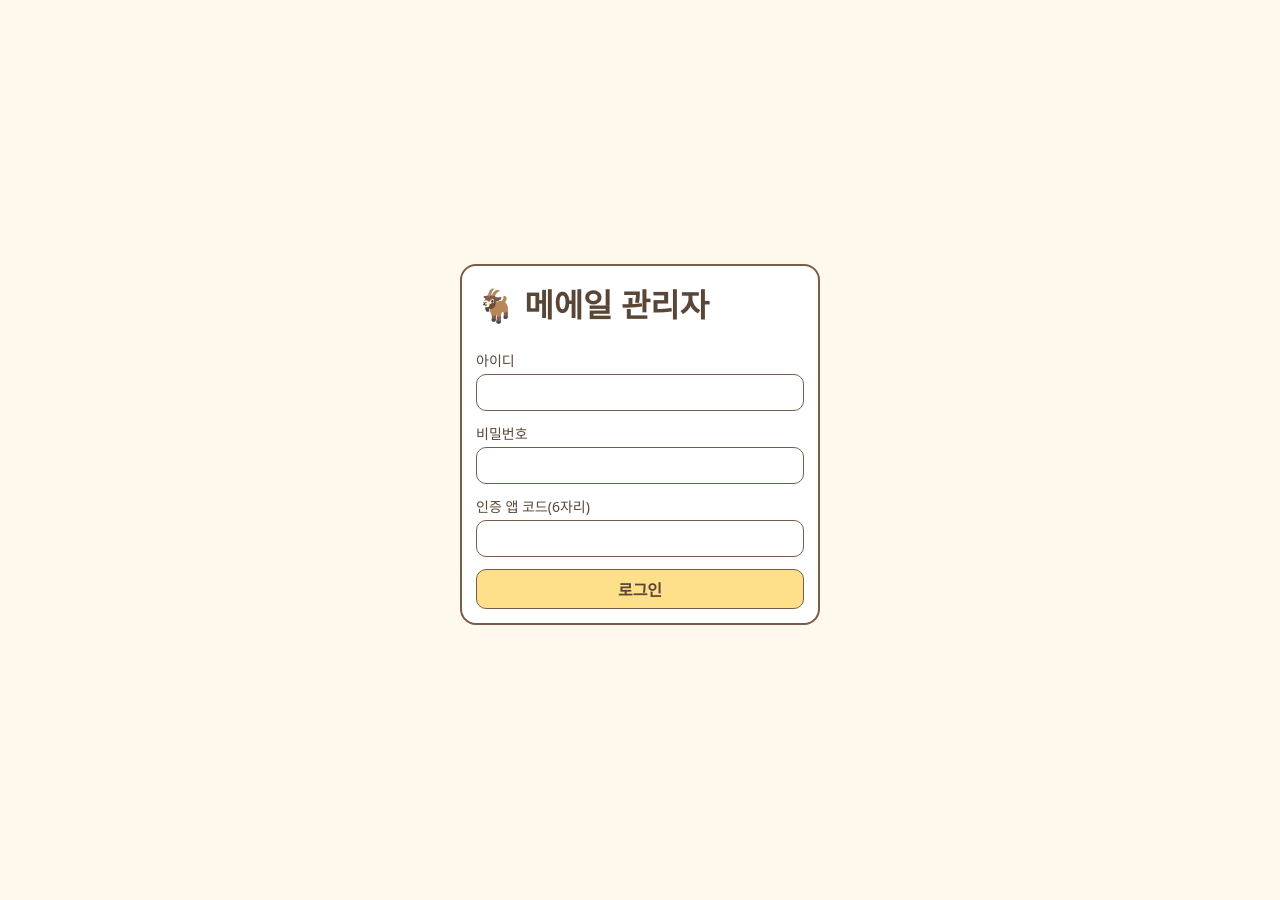
관리자 웹 › 로그인: 틀리면 안내, 맞으면 대시보드
The image size is (1280, 900).
Type "boss" into the field labelled "아이디". click: (640, 392)
box: [476, 374, 804, 410]
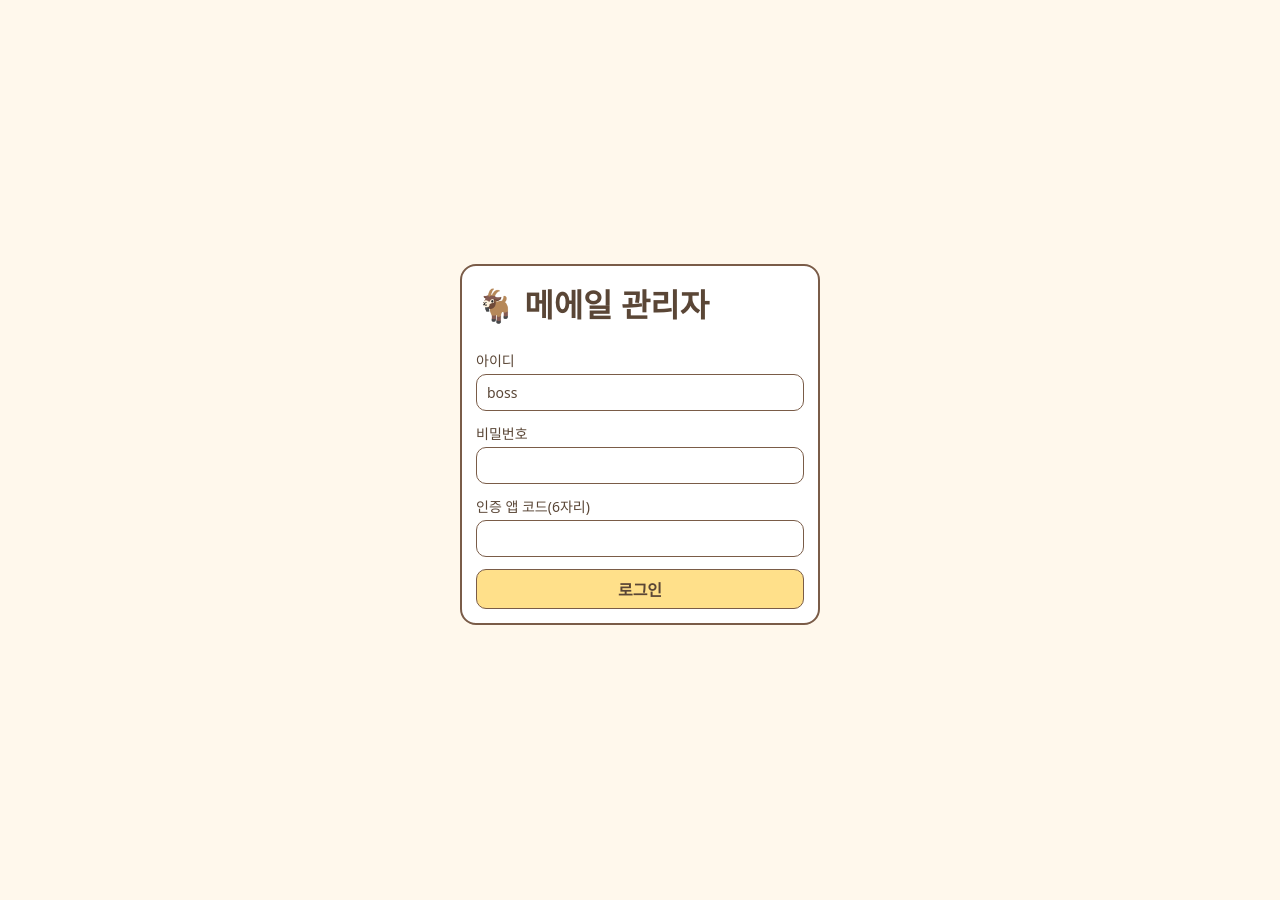
Type "pw" into the password field labelled "비밀번호". click: (640, 465)
box: [476, 446, 804, 484]
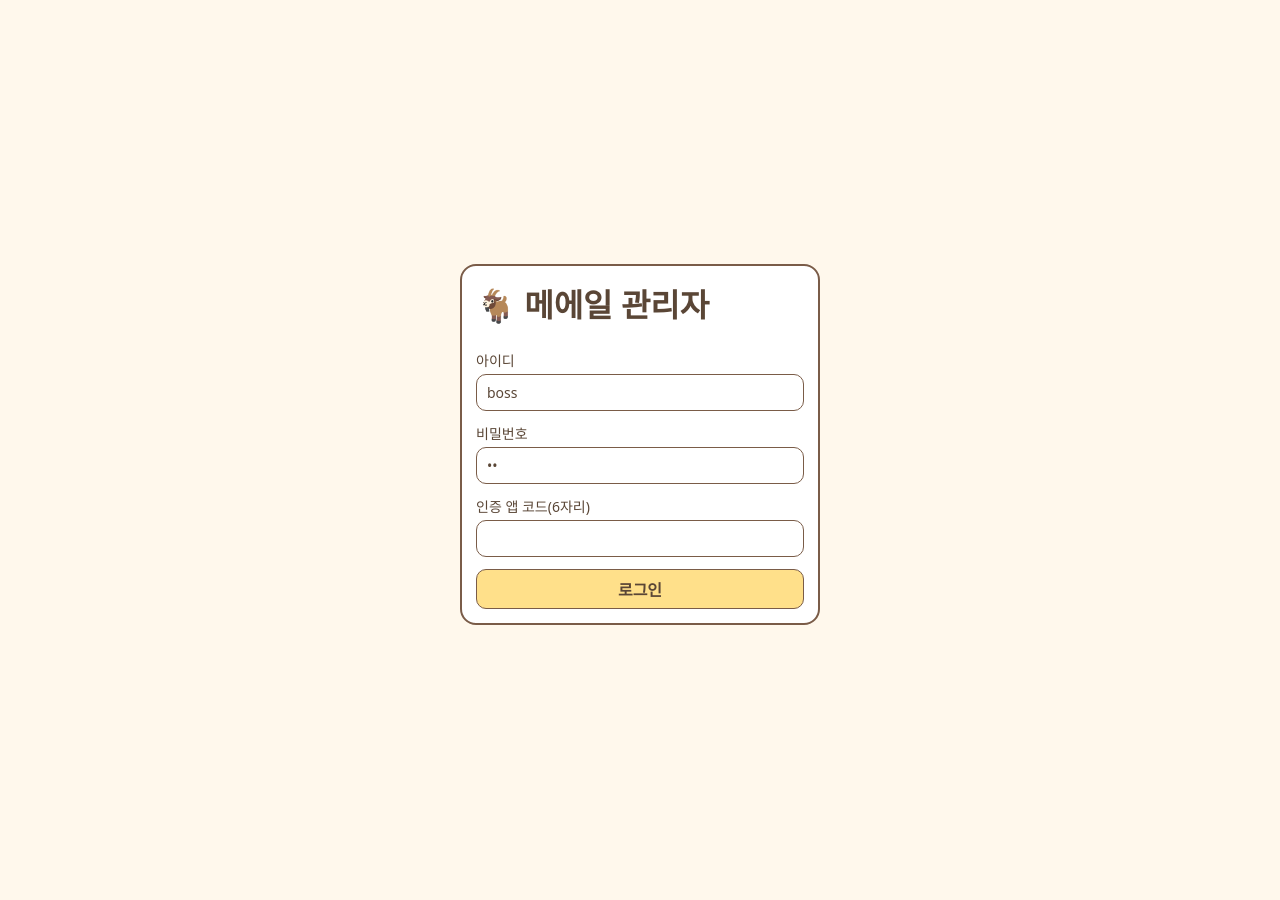
Type "12a3456" into the field labelled "인증 앱 코드(6자리)". click: (640, 538)
box: [476, 520, 804, 556]
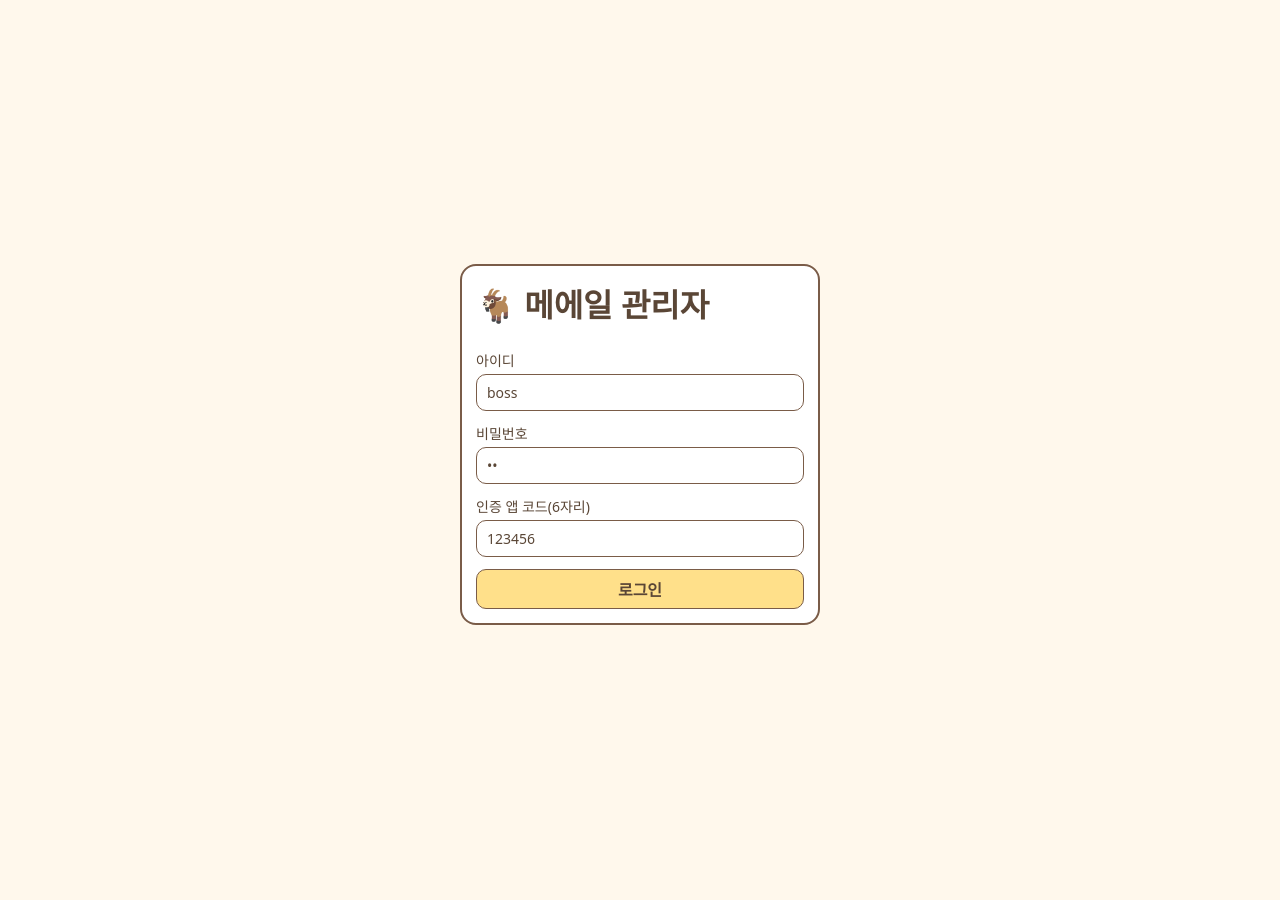
Expected: the field labelled "인증 앱 코드(6자리)" holds "123456", [476, 520, 804, 556]
Click the button "로그인". click: (640, 588)
box: [476, 568, 804, 608]
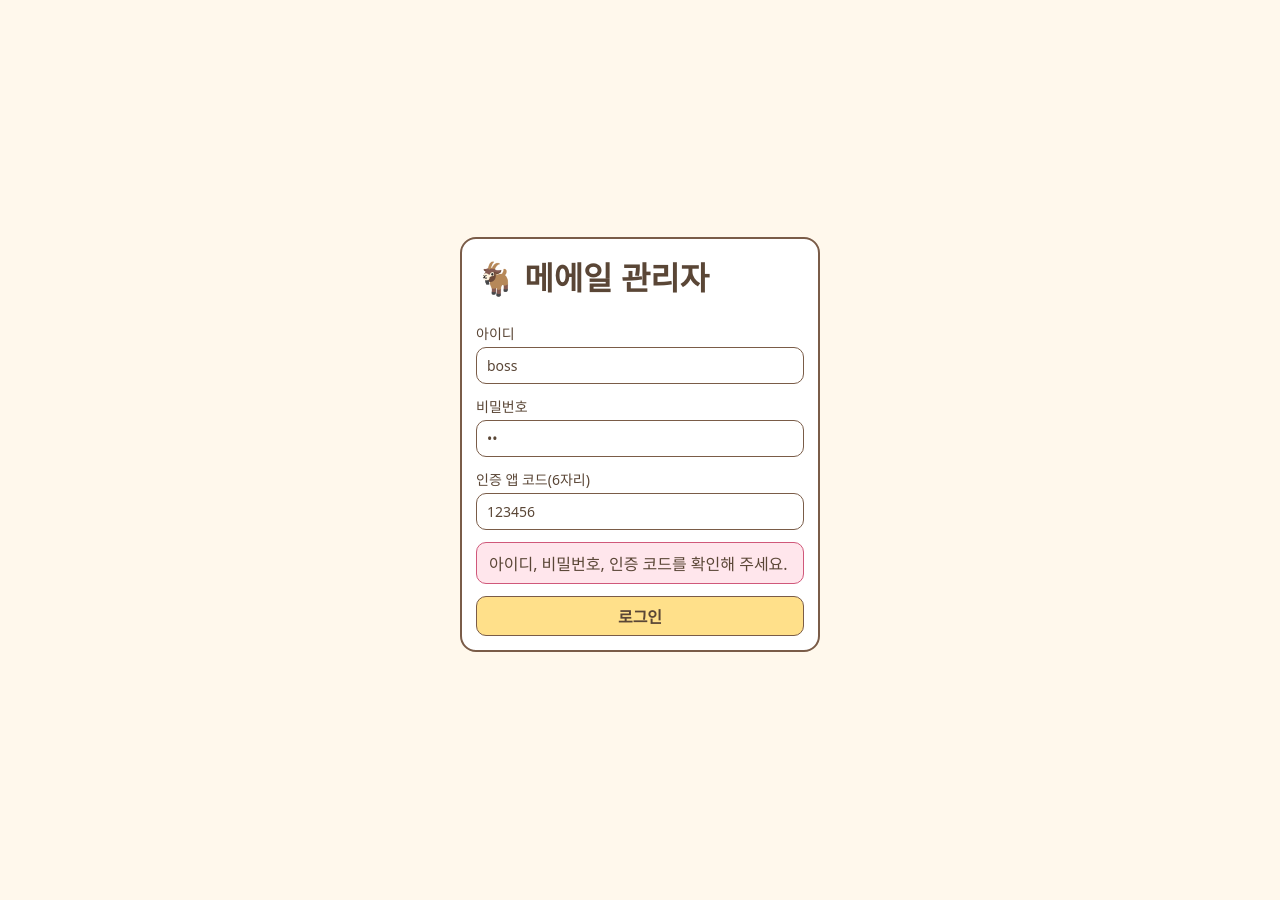
Expected: the message reads "아이디, 비밀번호, 인증 코드를 확인해 주세요.", [489, 552, 788, 574]
Click the button "로그인". click: (640, 616)
box: [476, 596, 804, 636]
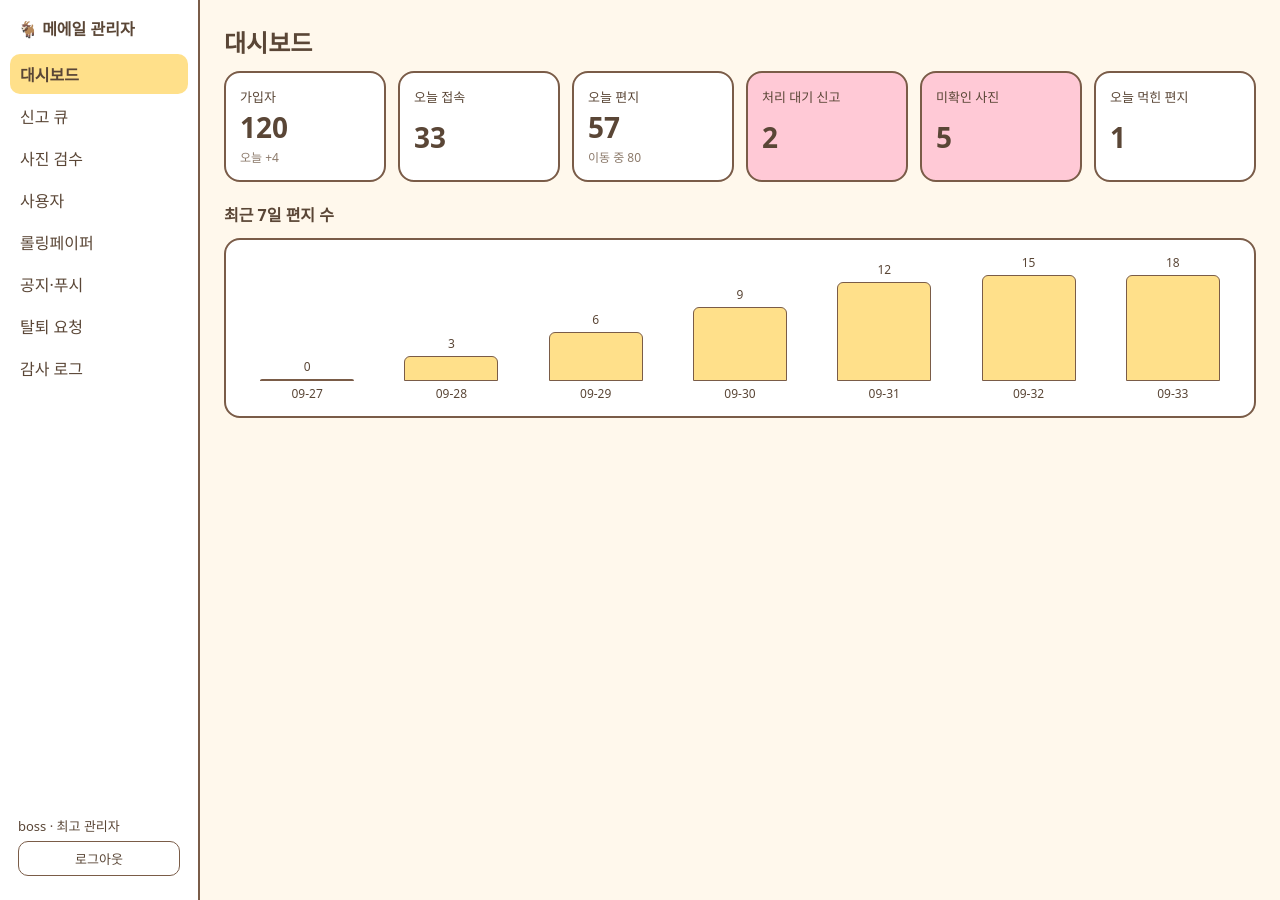
Expected: the text "처리 대기 신고" is shown, [762, 88, 840, 106]
Expected: the text "120" is shown, [240, 108, 288, 146]
